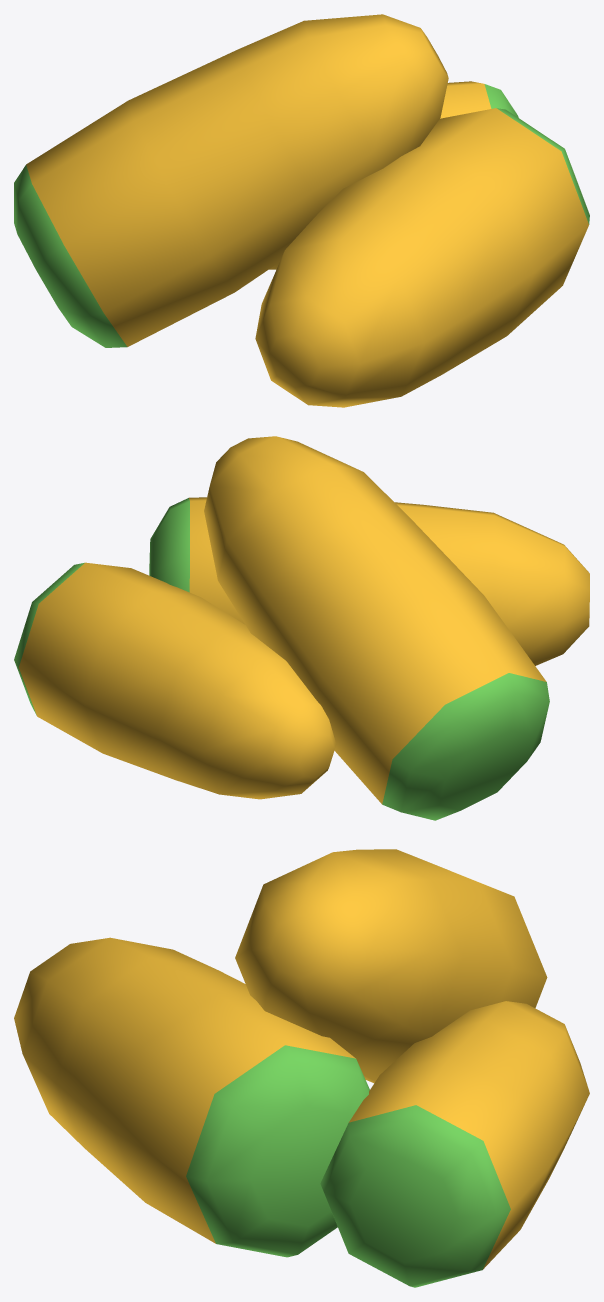
File: Corn.fbx
3 views of the same model, one above another, from view 1: azimuth 30°, elevation 25°; view 2: azimuth 150°, elevation 25°; view 3: azimuth 270°, elevation 25° (orthographic). The views are drawn at different scales.
Parts seen in each view (by area): view 1: Corn; view 2: Corn; view 3: Corn.
Boxes of the visible parts, <box> form: Corn: <box>14,14,589,407</box>; Corn: <box>14,436,589,820</box>; Corn: <box>14,849,589,1287</box>.
Bounding box in the file's own units: 41.87 × 24.09 × 38.02.
